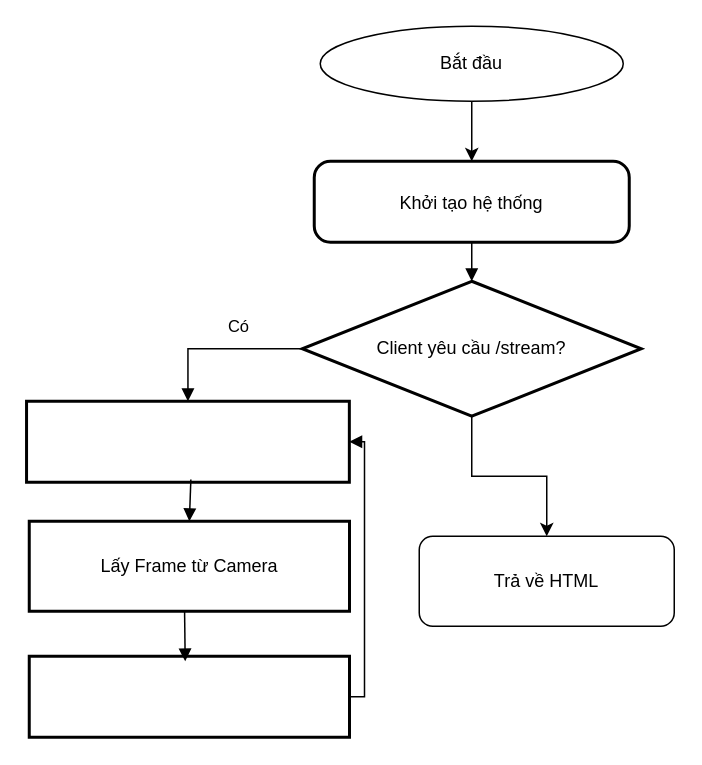
This 702x765 diagram has some shape labels left out. Each missing label, with the centre of its shape:
Bắt đầu vòng lặp Streaming: [187,441]
Gửi Frame qua HTTP: [188,696]
